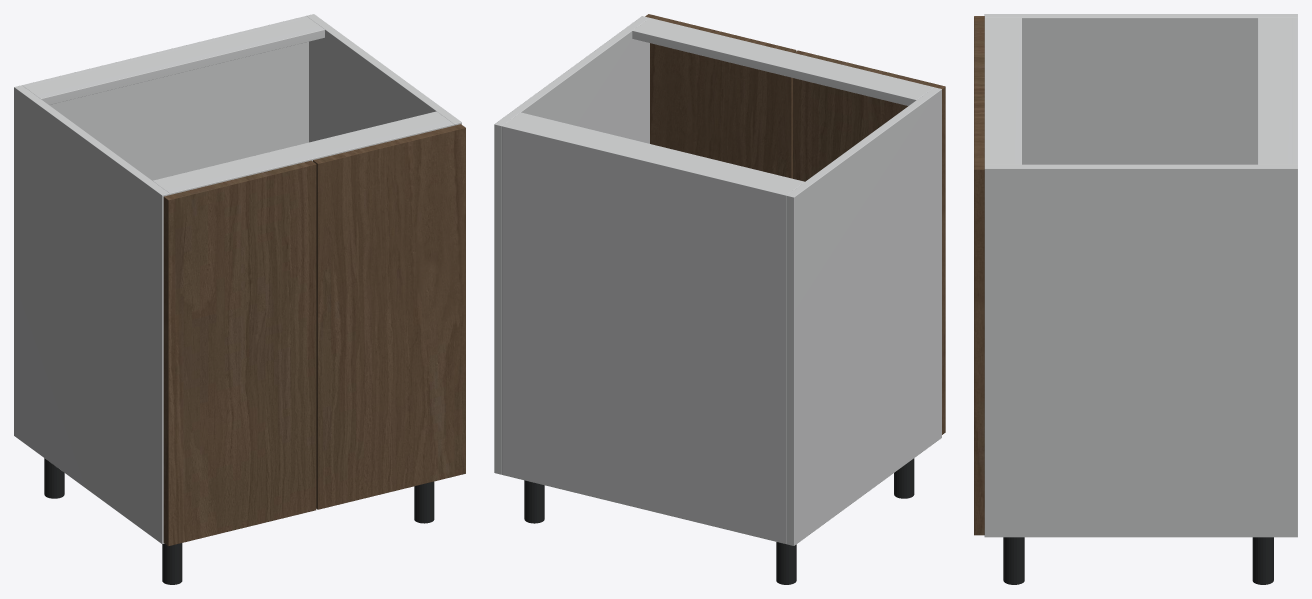
The model's file is oppein-pb-mso-b27fh.glb.
3 views of the same model, side by side, from view 1: azimuth 30°, elevation 25°; view 2: azimuth 150°, elevation 25°; view 3: azimuth 270°, elevation 25° (orthographic). The views are drawn at different scales.
Visible parts, largest first — view 1: Door, Cabinet side, Door.001, Cabinet back, Cabinet side.001, Top support rail, Top support rail.001, Adjustable foot.001, Adjustable foot.003, Adjustable foot; view 2: Cabinet back, Cabinet side, Door.001, Cabinet side.001, Door, Top support rail.001, Top support rail, Adjustable foot, Adjustable foot.002, Adjustable foot.001; view 3: Cabinet side.001, Cabinet side, Top support rail.001, Top support rail, Door.001, Adjustable foot.003, Adjustable foot.002, Cabinet back, Door.
Part boxes in pixels (x1,y1,x2,y2): Door: (163,160,316,546); Cabinet side: (14,85,169,544); Door.001: (313,124,465,509); Cabinet back: (22,16,308,180); Cabinet side.001: (306,14,461,142); Top support rail: (23,18,324,104); Top support rail.001: (153,111,454,194); Adjustable foot.001: (162,543,182,584); Adjustable foot.003: (414,481,434,523); Adjustable foot: (44,458,64,498); Cabinet back: (502,124,788,543); Cabinet side: (786,87,941,545); Door.001: (645,14,796,178); Cabinet side.001: (494,16,649,474); Door: (793,50,945,434); Top support rail.001: (632,18,933,105); Top support rail: (505,112,804,194); Adjustable foot: (776,542,796,584); Adjustable foot.002: (524,480,544,523); Adjustable foot.001: (894,458,914,498); Cabinet side.001: (984,164,1297,537); Cabinet side: (984,14,1297,164); Top support rail.001: (984,18,1021,164); Top support rail: (1258,18,1291,164); Door.001: (974,93,984,535); Adjustable foot.003: (1003,537,1024,584); Adjustable foot.002: (1252,537,1273,584); Cabinet back: (1292,18,1297,164); Door: (974,16,984,93).
Size of the model in its own units: 0.6858 by 0.8763 by 0.6064.
3 materials, 1 textured.
